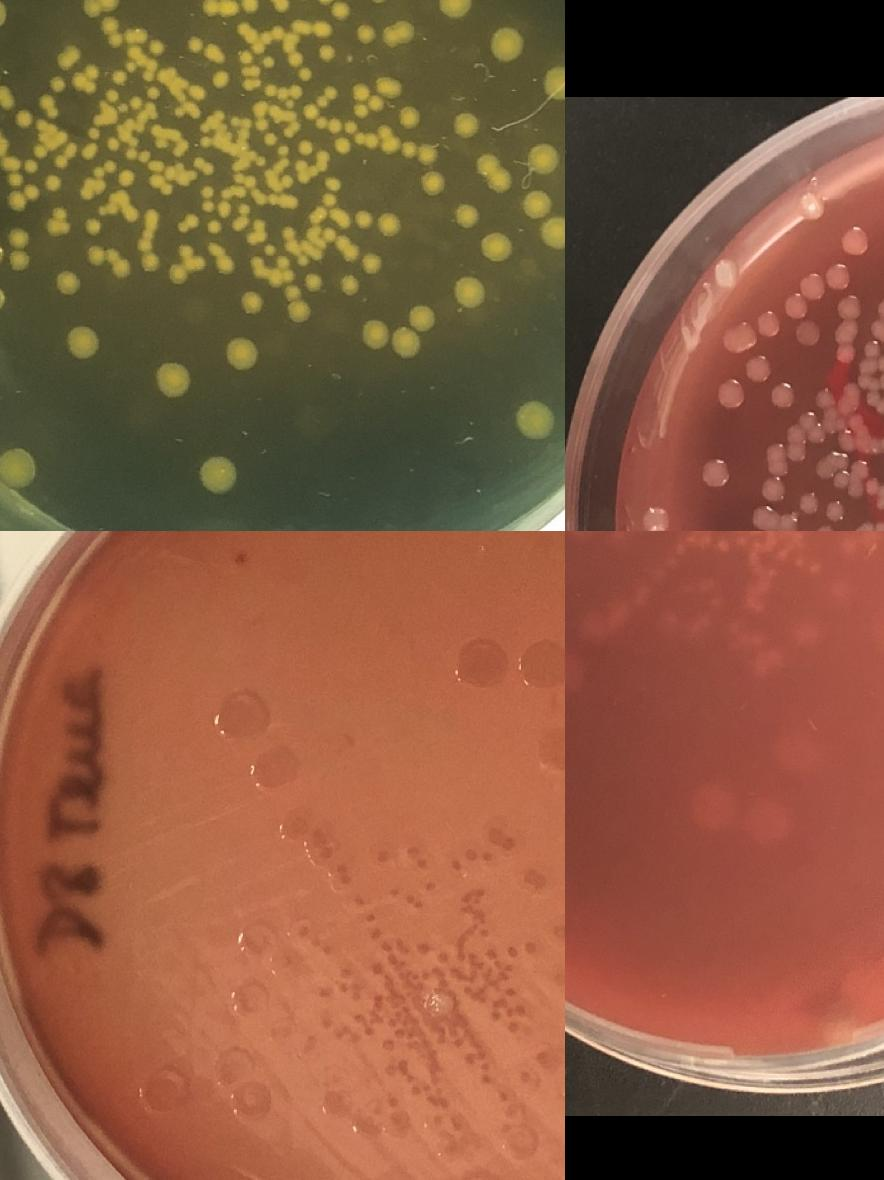tmaritimum: (213, 1047, 274, 1123), (216, 690, 266, 738), (458, 638, 507, 686), (138, 1068, 187, 1116), (518, 641, 565, 689), (690, 779, 740, 824), (744, 796, 792, 842), (772, 730, 820, 775), (252, 744, 296, 788), (234, 919, 276, 958), (498, 1122, 538, 1162), (231, 977, 270, 1017), (565, 644, 593, 690), (304, 829, 336, 868), (837, 531, 884, 555), (542, 725, 565, 773), (823, 574, 856, 606), (793, 614, 825, 647), (490, 986, 513, 1022), (322, 1088, 350, 1116), (280, 812, 308, 840), (382, 1112, 408, 1140), (350, 1110, 376, 1138), (455, 1166, 504, 1180), (658, 608, 678, 628), (605, 605, 625, 625), (755, 651, 774, 671), (632, 584, 650, 604), (404, 892, 422, 911), (422, 1082, 436, 1106), (336, 860, 350, 884), (505, 1003, 524, 1017), (396, 1058, 408, 1076), (482, 1060, 490, 1086)
vharveyi: (782, 262, 850, 320), (106, 95, 156, 162), (762, 441, 806, 500), (255, 83, 302, 138), (304, 84, 356, 133), (391, 305, 433, 356), (857, 338, 884, 409), (282, 19, 314, 66), (250, 253, 295, 286), (238, 21, 284, 52), (352, 123, 398, 152), (309, 192, 350, 224), (102, 18, 148, 46), (96, 190, 138, 219), (295, 148, 330, 182), (477, 153, 510, 189), (788, 412, 826, 442), (36, 116, 68, 148), (284, 286, 312, 322), (203, 457, 234, 488), (490, 28, 522, 58), (480, 229, 512, 259), (453, 275, 485, 305), (239, 50, 263, 90), (380, 19, 416, 45), (225, 338, 256, 368), (1, 451, 32, 481), (158, 362, 187, 394), (520, 403, 550, 433), (360, 318, 390, 348), (68, 325, 98, 355), (530, 142, 559, 173), (6, 183, 39, 210), (402, 142, 438, 163), (138, 208, 156, 250), (542, 216, 565, 247), (839, 323, 858, 360), (794, 320, 821, 346), (770, 380, 796, 407), (840, 228, 866, 254), (837, 294, 863, 320), (798, 192, 824, 218), (796, 490, 822, 516), (755, 310, 781, 336), (744, 354, 770, 380), (729, 324, 755, 350), (702, 459, 728, 485), (718, 380, 743, 407), (642, 506, 669, 531), (255, 192, 298, 207), (545, 67, 565, 97), (420, 169, 444, 194), (245, 219, 269, 244), (455, 204, 479, 228), (454, 112, 478, 136), (240, 290, 264, 314), (56, 270, 80, 294), (53, 143, 77, 167), (229, 204, 252, 229), (865, 479, 884, 509), (71, 73, 98, 93), (106, 250, 128, 274), (82, 176, 106, 198), (47, 206, 67, 232), (439, 0, 470, 15), (338, 236, 358, 259), (149, 173, 173, 192), (276, 142, 293, 168), (91, 160, 117, 177), (152, 124, 170, 148), (378, 75, 398, 96), (317, 227, 337, 248), (40, 95, 60, 116), (527, 193, 547, 213), (400, 104, 420, 124), (362, 253, 382, 273), (353, 208, 373, 228), (340, 274, 360, 294), (232, 171, 256, 187), (192, 158, 216, 174), (85, 0, 117, 12), (826, 500, 845, 520), (10, 227, 28, 248), (141, 60, 158, 82), (220, 185, 248, 198), (380, 213, 398, 233), (303, 272, 323, 290), (10, 250, 28, 270), (156, 65, 178, 81), (178, 214, 197, 232), (284, 227, 298, 251), (301, 229, 316, 251), (716, 262, 734, 280), (206, 111, 225, 128), (816, 390, 834, 406), (816, 461, 832, 478), (92, 113, 112, 126), (0, 86, 13, 106), (832, 473, 848, 489), (832, 452, 848, 468), (754, 508, 770, 524), (840, 434, 856, 448), (269, 0, 289, 11), (119, 169, 134, 183), (369, 95, 383, 109), (359, 25, 373, 39), (337, 138, 351, 152), (334, 2, 348, 16), (324, 176, 338, 190), (318, 21, 332, 35), (299, 139, 313, 153), (298, 67, 312, 81), (263, 243, 277, 257), (221, 0, 235, 14), (219, 257, 233, 271), (214, 70, 228, 84), (206, 43, 220, 57), (171, 266, 185, 280), (89, 248, 103, 262), (85, 64, 99, 78), (82, 143, 96, 157), (58, 52, 72, 66), (46, 174, 60, 188), (18, 112, 32, 126), (8, 172, 22, 186), (261, 53, 276, 66), (354, 85, 368, 98), (321, 44, 334, 58), (276, 255, 290, 268), (265, 132, 278, 146), (204, 0, 218, 13), (188, 36, 202, 49), (127, 45, 142, 57), (23, 158, 36, 171), (352, 104, 366, 116), (256, 118, 270, 130), (253, 153, 267, 165), (240, 117, 254, 129), (217, 202, 231, 214), (208, 220, 222, 232), (202, 199, 216, 211), (192, 85, 206, 97), (174, 104, 188, 116), (164, 167, 178, 179), (146, 86, 160, 98), (144, 254, 158, 266), (125, 60, 139, 72), (32, 145, 46, 157), (152, 40, 164, 53), (115, 70, 128, 82), (106, 89, 119, 101), (51, 77, 64, 89), (6, 157, 19, 169), (312, 250, 324, 262), (298, 253, 310, 265), (210, 243, 222, 255), (202, 184, 214, 196), (192, 257, 204, 269), (180, 245, 192, 257), (152, 159, 164, 171), (88, 219, 100, 231), (88, 128, 100, 140), (242, 0, 256, 10), (281, 175, 292, 187), (816, 526, 833, 531), (0, 139, 6, 151)
